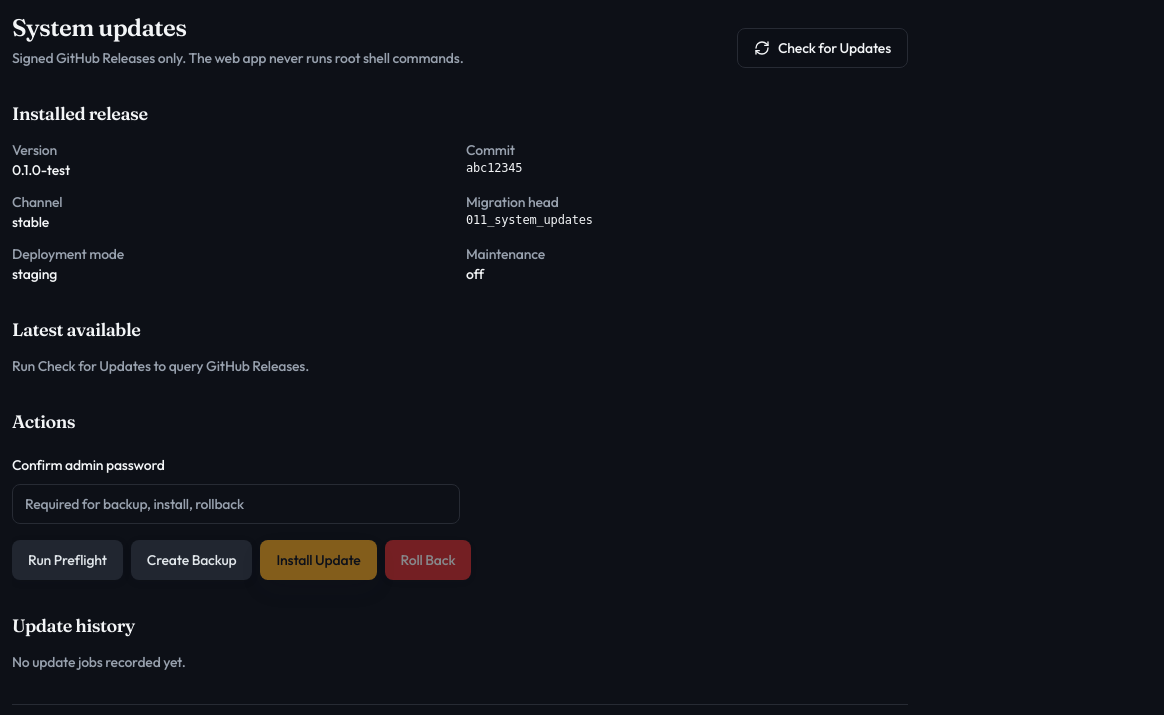
Test: SystemUpdatesPage › checks updates and shows release notes
The image size is (1164, 715).
Check: the text "0.1.0-test" is shown, box left=12, top=161, right=70, bottom=179
Click the button "Check for Updates" at (822, 48), box left=737, top=28, right=908, bottom=68
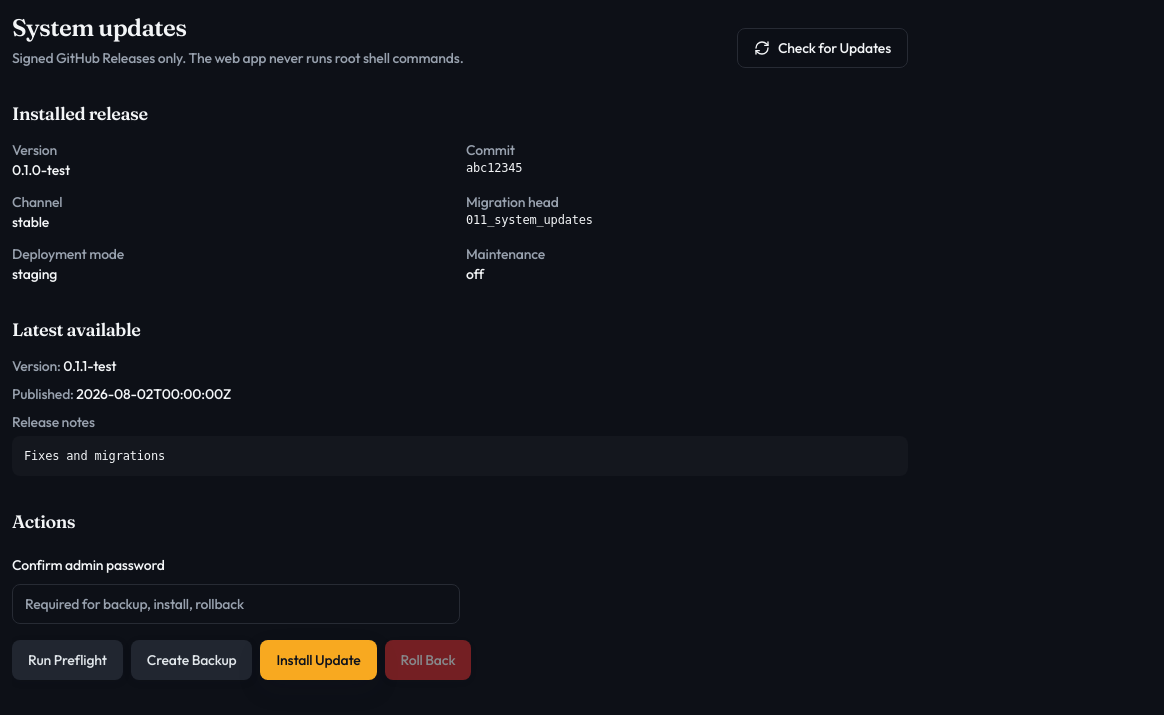
Check: the text "0.1.1-test" is shown, box left=63, top=357, right=116, bottom=375
Check: the text "Fixes and migrations" is shown, box left=12, top=436, right=908, bottom=476
